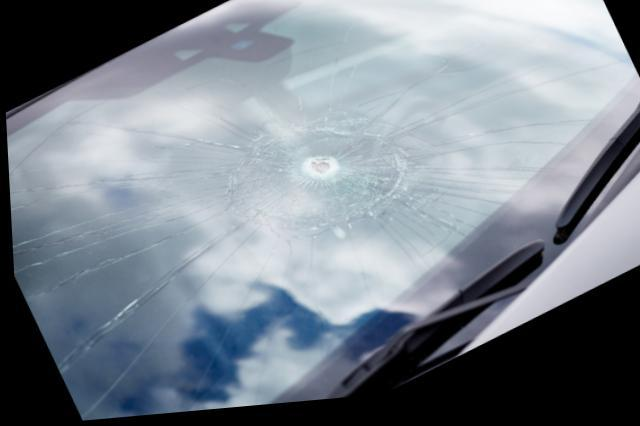glass shatter: (5, 0, 640, 422)
